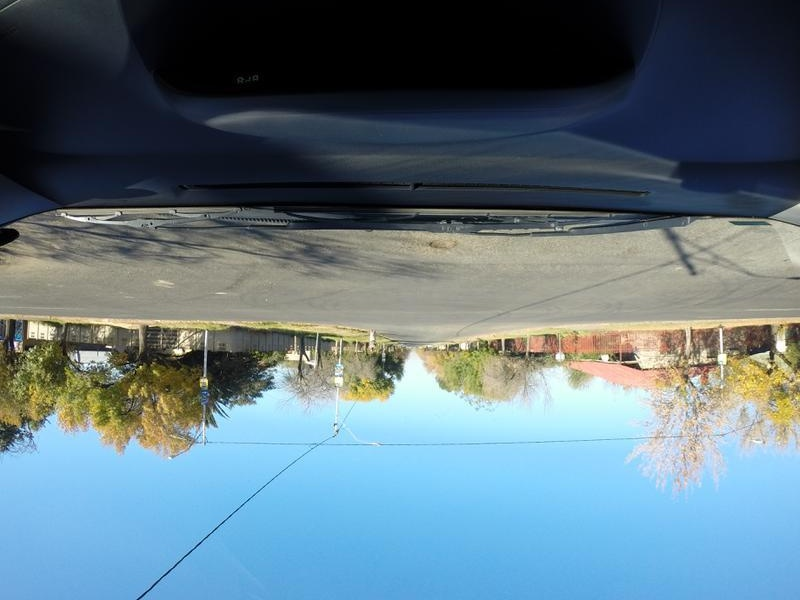pothole: (427, 235, 464, 255)
